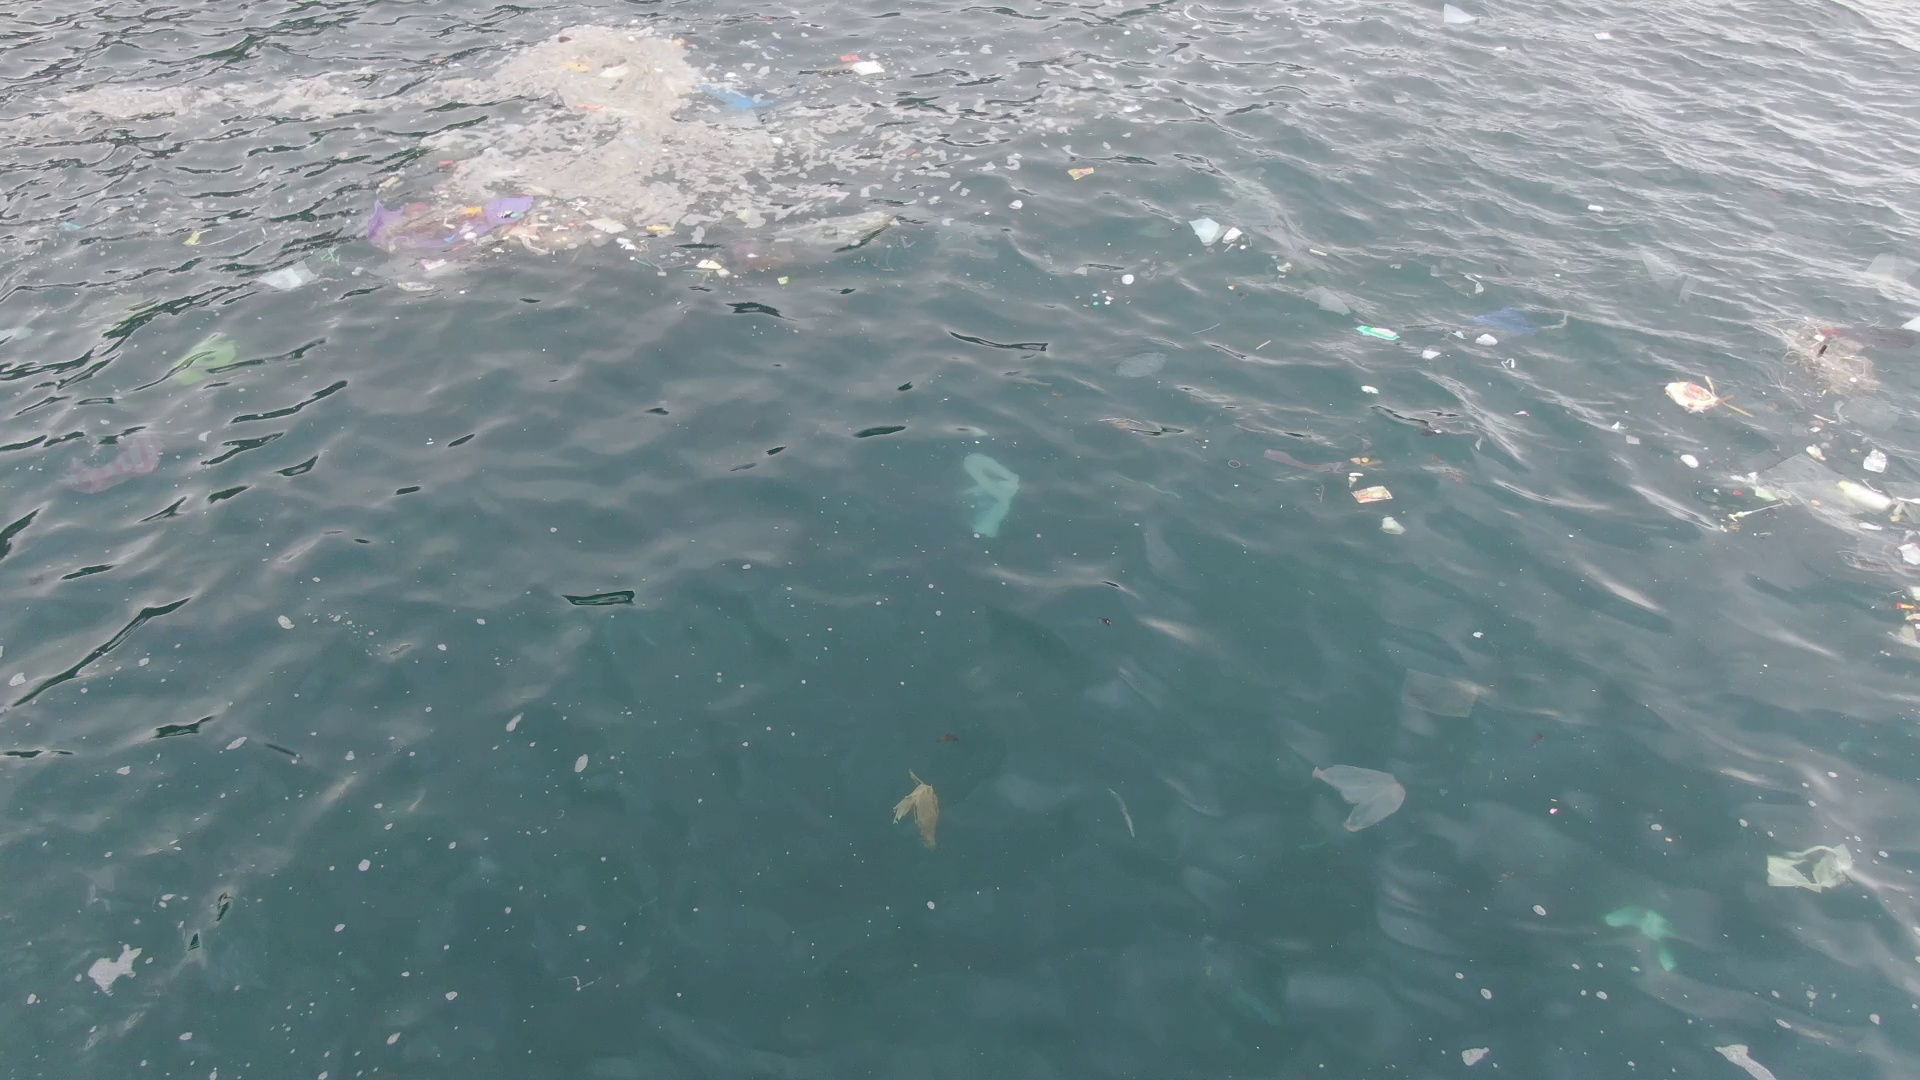garbage: (367, 160, 675, 255), (1756, 313, 1883, 401), (1308, 762, 1406, 832), (1262, 433, 1385, 487), (61, 431, 164, 493), (771, 204, 899, 247), (1604, 905, 1681, 971), (964, 454, 1018, 539), (1764, 841, 1853, 893), (1399, 667, 1476, 717), (893, 769, 939, 851), (695, 80, 771, 129), (1663, 372, 1745, 415), (171, 331, 236, 385), (1188, 218, 1253, 253), (256, 260, 319, 291), (1838, 477, 1892, 509), (1722, 471, 1778, 500), (628, 256, 688, 278), (1109, 789, 1135, 837), (839, 50, 884, 75), (1443, 3, 1478, 24), (1863, 447, 1888, 476), (1358, 324, 1400, 342), (696, 258, 731, 280), (1352, 487, 1393, 502), (182, 228, 214, 244), (600, 62, 632, 78), (1379, 516, 1404, 535), (1476, 330, 1501, 349), (1900, 542, 1920, 566), (563, 61, 593, 75), (1092, 290, 1114, 306), (397, 282, 435, 291), (673, 37, 699, 50), (576, 102, 607, 112), (1068, 167, 1095, 179), (1807, 444, 1825, 460), (320, 248, 340, 262), (1681, 454, 1700, 468), (422, 258, 447, 269), (59, 222, 84, 232), (938, 733, 959, 745), (1625, 433, 1640, 444), (1121, 272, 1134, 285), (1007, 198, 1023, 208), (429, 57, 447, 65), (778, 276, 789, 284)
